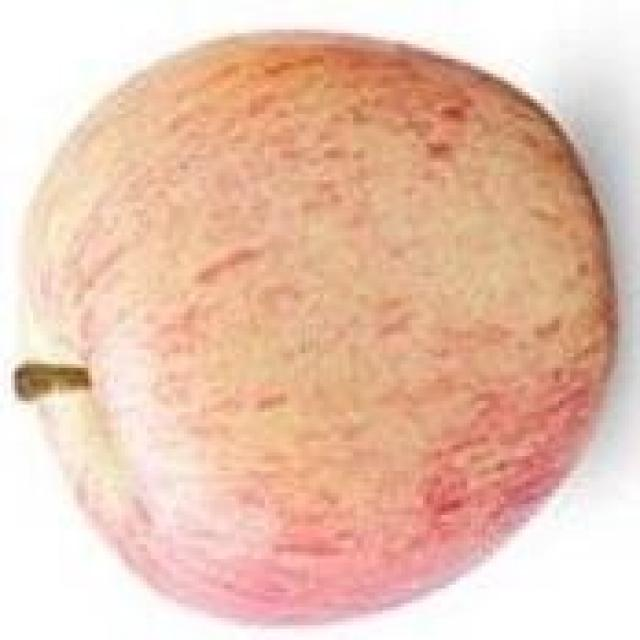Rotten Apple: (18, 24, 614, 620)
